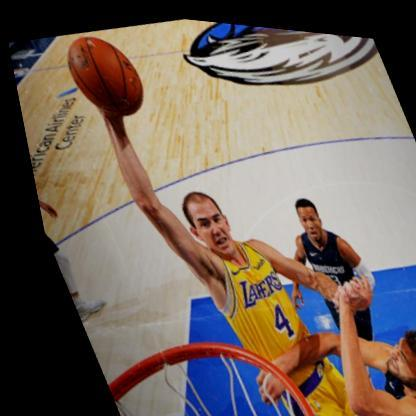basketball: (52, 23, 153, 125)
